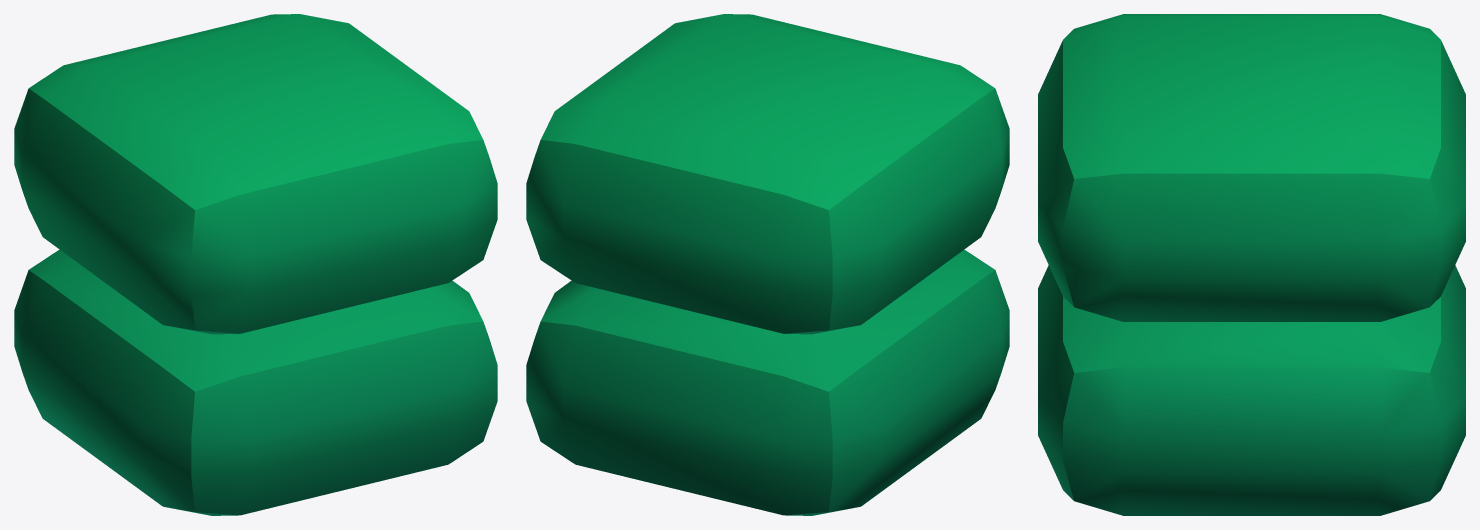
Rendered from barrier_1x1x1_green.glb.
The picture shows the model from 3 angles, left to right: view 1: azimuth 30°, elevation 25°; view 2: azimuth 150°, elevation 25°; view 3: azimuth 270°, elevation 25°; orthographic projection. The views are drawn at different scales.
Parts seen in each view (by area): view 1: barrier_1x1x1_green; view 2: barrier_1x1x1_green; view 3: barrier_1x1x1_green.
Part boxes in pixels (<box>): barrier_1x1x1_green: <box>14,14,497,515</box>; barrier_1x1x1_green: <box>526,14,1009,515</box>; barrier_1x1x1_green: <box>1038,14,1465,515</box>.
Bounding box in the file's own units: 1 × 1 × 1.
1 material, 1 textured.
